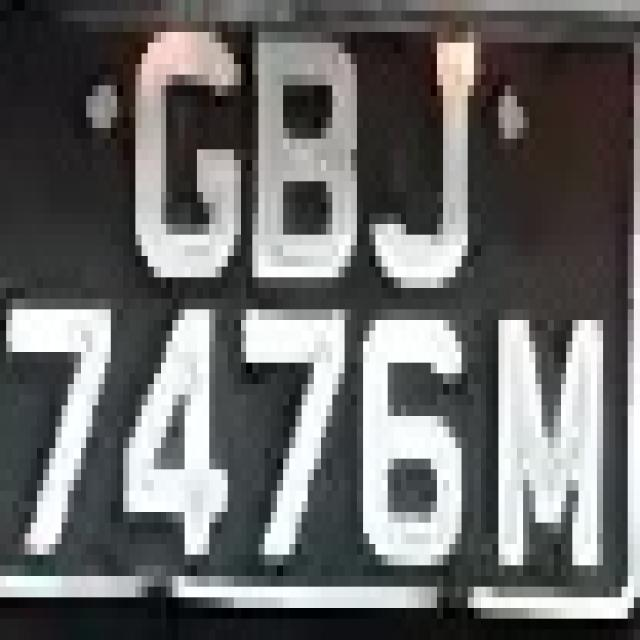4: (111, 288, 234, 587)
6: (351, 267, 474, 597)
7: (222, 245, 351, 608), (6, 277, 117, 608)
B: (234, 32, 357, 320)
G: (117, 0, 258, 320)
J: (357, 11, 498, 309)
M: (486, 267, 616, 608)
